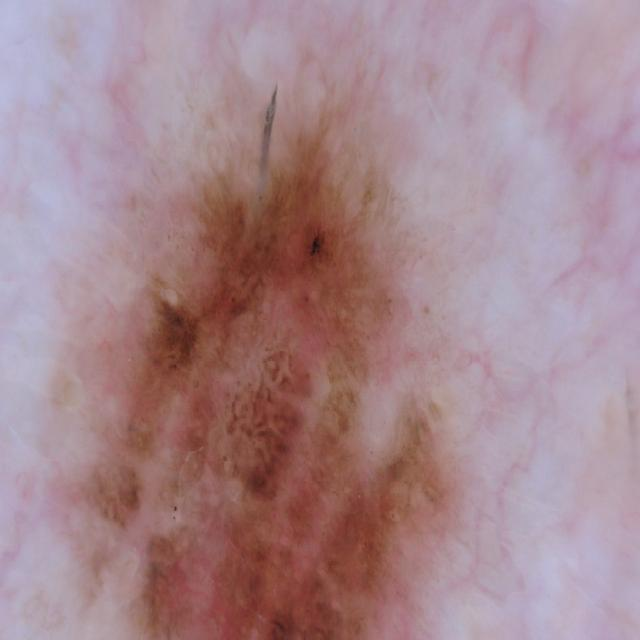Melanoma: (43, 68, 499, 640)
